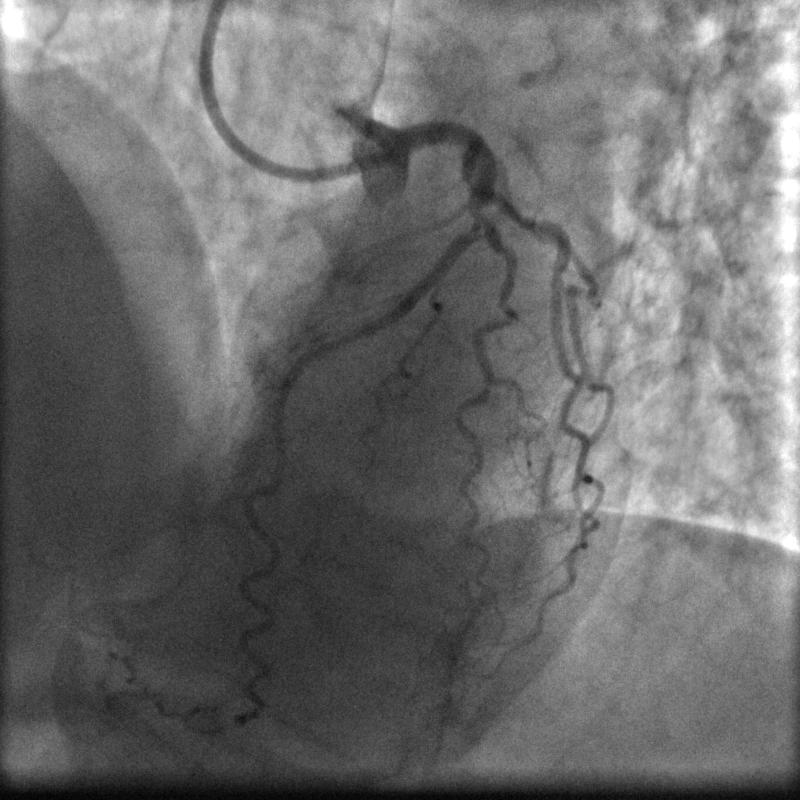Stenosis: (463, 199, 494, 221)
